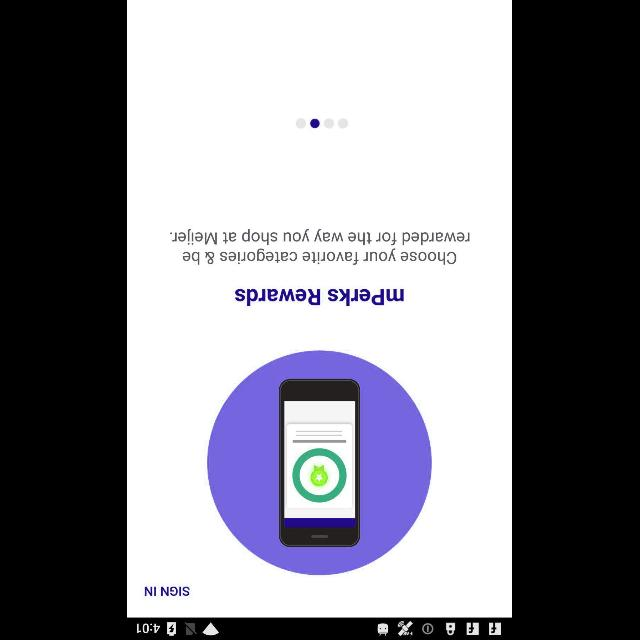image: (208, 350, 432, 576)
pageindicator: (296, 117, 348, 129)
text: (171, 228, 471, 266), (236, 288, 404, 306), (146, 586, 190, 596)
uppertaskbar: (128, 617, 512, 639)
